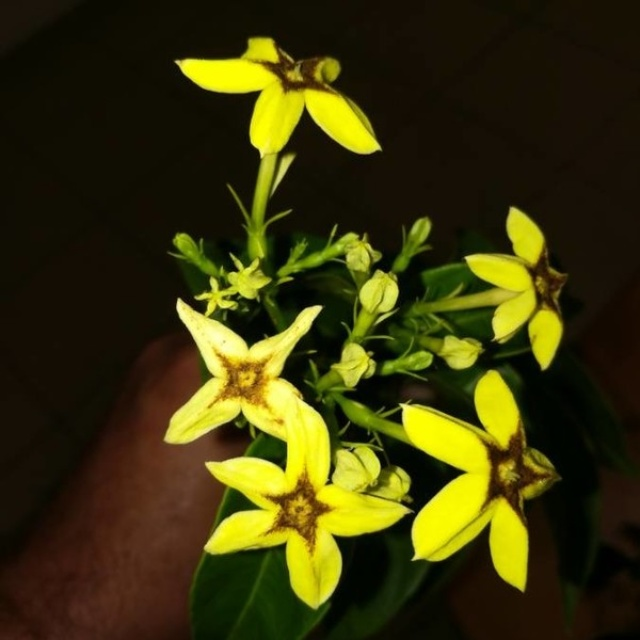obstacle: (172, 48, 592, 589)
